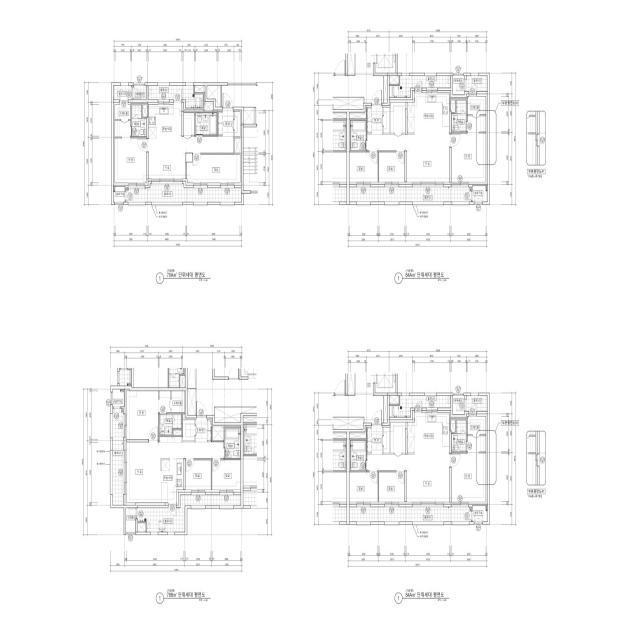space_balconi: (138, 495, 241, 532), (126, 184, 242, 202), (349, 507, 471, 522), (349, 187, 471, 202), (389, 76, 451, 97), (389, 396, 451, 417), (148, 86, 203, 108), (113, 408, 123, 505), (466, 76, 487, 91), (466, 396, 487, 411), (113, 86, 131, 100)
space_bedroom: (452, 453, 486, 502), (452, 133, 486, 182), (127, 391, 158, 439), (187, 155, 240, 183), (115, 138, 146, 183), (349, 152, 378, 182), (212, 460, 241, 490), (349, 472, 378, 502), (379, 152, 405, 182), (379, 472, 405, 502), (185, 460, 211, 490)
space_dressroom: (468, 416, 486, 452), (468, 96, 486, 132), (159, 391, 184, 413), (115, 102, 130, 137)
space_front: (218, 109, 240, 137), (367, 105, 383, 134), (367, 425, 383, 454), (196, 417, 211, 442)
space_kitchen: (407, 413, 450, 453), (407, 93, 450, 133), (148, 102, 182, 137), (160, 458, 183, 503)
space_living_room: (127, 437, 224, 503), (367, 134, 450, 182), (367, 454, 450, 502), (148, 137, 233, 179)
space_other: (391, 422, 405, 453), (391, 102, 405, 133), (207, 86, 220, 107), (183, 420, 195, 441), (126, 508, 136, 532), (184, 113, 194, 135), (453, 396, 464, 415), (453, 76, 464, 95), (133, 86, 146, 100), (243, 108, 254, 124), (212, 427, 224, 441), (384, 108, 390, 133), (384, 428, 390, 453), (349, 433, 366, 439), (349, 114, 366, 119), (384, 396, 387, 423), (384, 76, 387, 103), (389, 396, 399, 404), (389, 76, 399, 84), (235, 138, 240, 153), (204, 103, 213, 111), (138, 523, 146, 532), (195, 86, 205, 93), (451, 420, 455, 432), (451, 100, 455, 112), (143, 105, 147, 117), (173, 430, 182, 435)
space_outdoor_room: (472, 506, 487, 522), (472, 186, 487, 202), (113, 389, 124, 407), (113, 187, 125, 202)
space_toilet: (350, 440, 366, 471), (350, 120, 366, 151), (195, 113, 217, 135), (159, 414, 182, 435), (225, 428, 241, 458), (452, 420, 466, 452), (132, 105, 146, 137), (452, 100, 466, 132)
